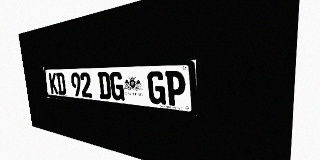2: (80, 72, 92, 98)
9: (70, 72, 82, 97)
D: (97, 72, 111, 100), (56, 73, 66, 95)
G: (147, 71, 166, 105), (109, 72, 125, 101)
K: (48, 73, 58, 94)
P: (165, 71, 186, 107)
